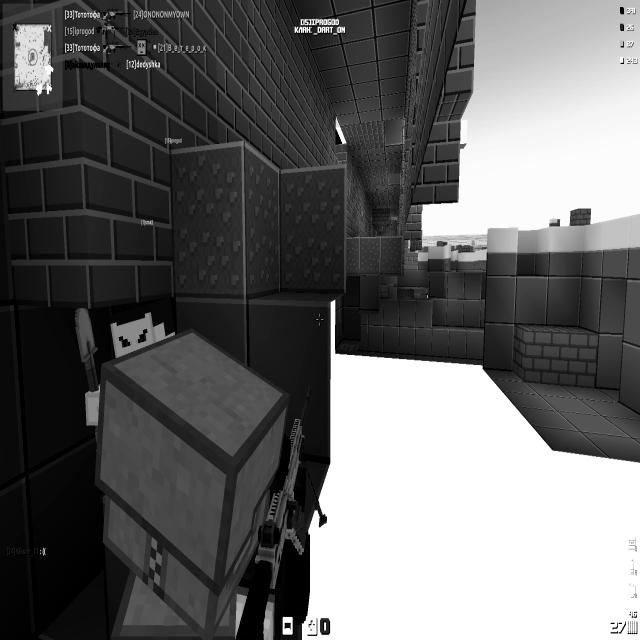Head: (97, 333, 292, 607), (109, 298, 174, 375)
Player: (93, 308, 332, 640), (74, 299, 176, 565)
